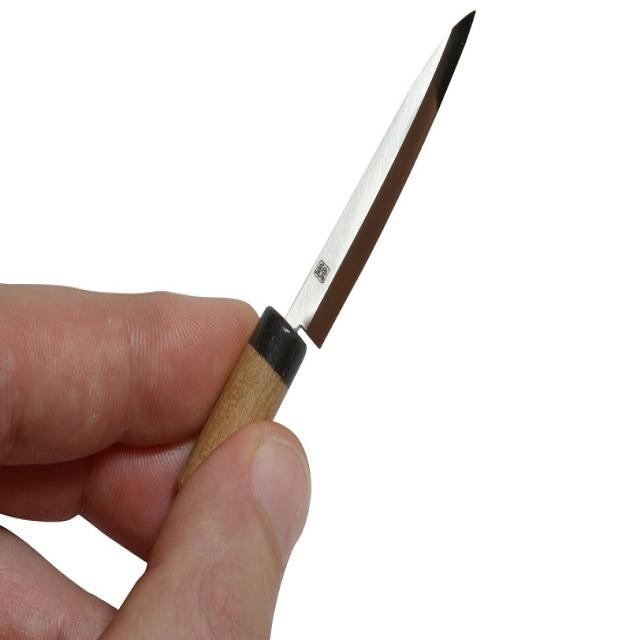knife: (175, 8, 480, 496)
